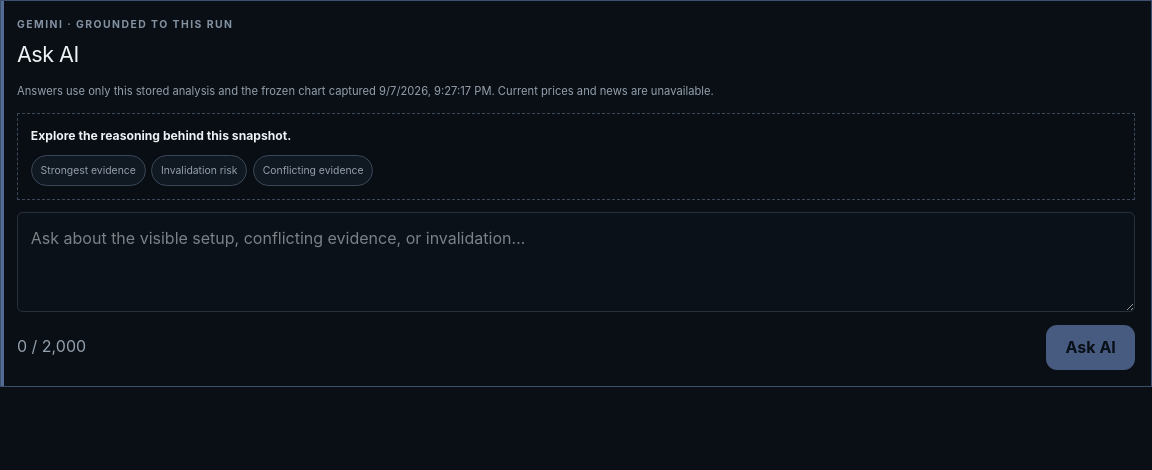
analysis chat › records a correlated client trace without logging the question
Replace the text in the text box named "Question about this analysis" with "Describe the private chart evidence." at (576, 262), box [17,212,1135,312]
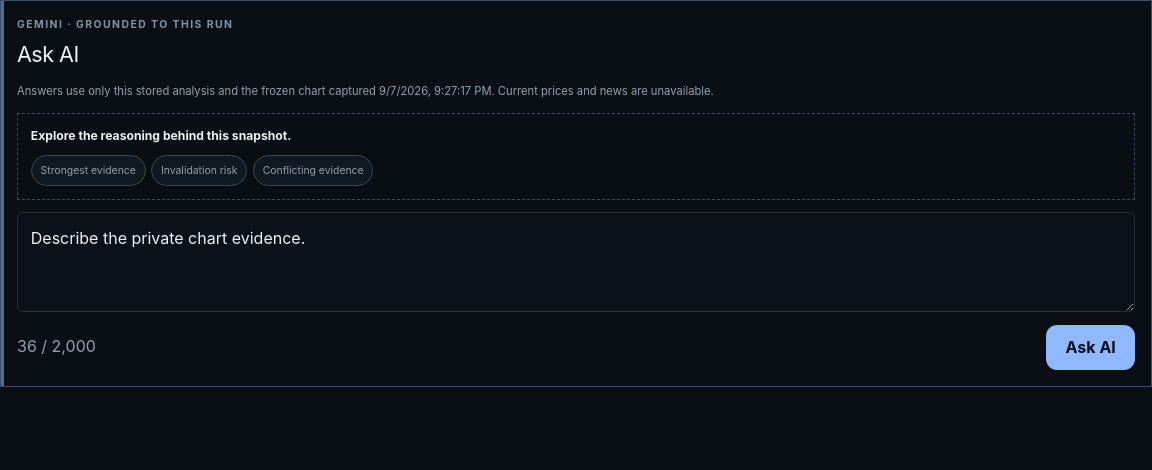
Click the button "Ask AI" at (1091, 347), box [1046,325,1135,370]
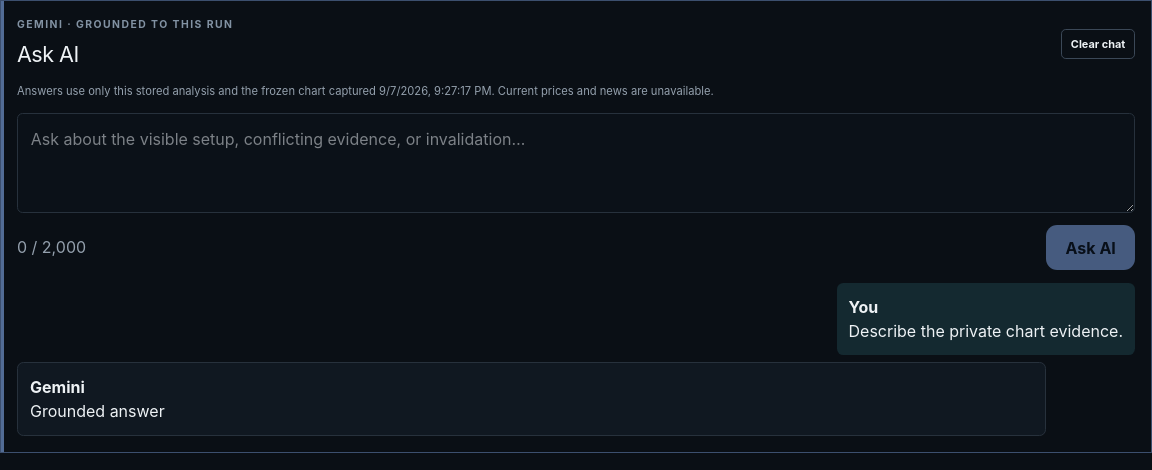
expect the text "Grounded answer" is shown: met, box [30,401,165,421]
